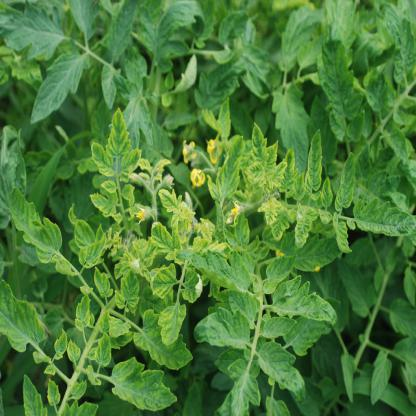Tomato leaf yellow virus: (10, 183, 59, 266), (133, 305, 195, 370), (111, 360, 180, 412), (191, 244, 254, 300), (0, 281, 43, 355), (353, 197, 416, 241), (259, 344, 306, 400), (195, 308, 253, 350), (216, 134, 244, 203), (104, 108, 135, 162), (260, 196, 289, 248), (114, 267, 143, 317), (304, 126, 325, 193), (158, 304, 187, 349), (152, 220, 180, 264), (91, 140, 119, 183), (264, 253, 299, 285), (150, 262, 178, 300), (248, 120, 269, 170), (80, 235, 106, 273), (330, 214, 353, 253), (291, 214, 311, 252), (181, 268, 202, 304), (90, 192, 117, 219), (51, 325, 69, 364), (93, 266, 113, 301), (234, 213, 252, 249), (96, 333, 113, 371), (74, 293, 90, 331), (157, 186, 181, 210), (47, 377, 62, 413), (67, 338, 83, 365)
